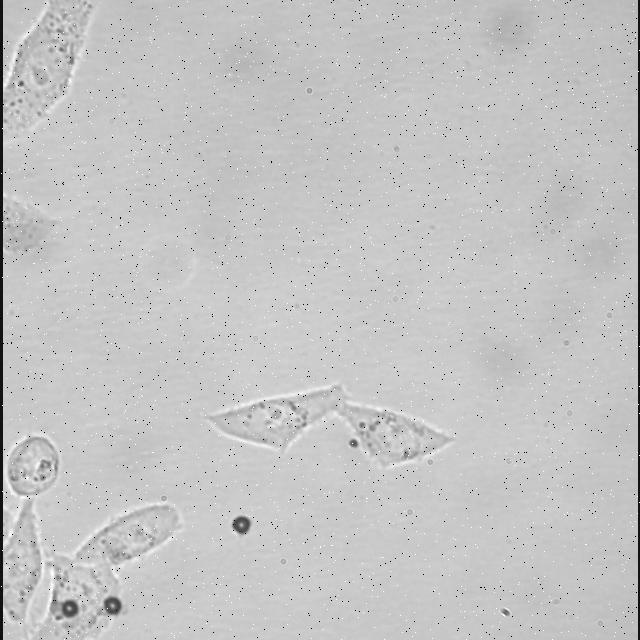microbeads: (228, 516, 252, 534), (103, 595, 123, 615), (61, 600, 78, 618)
